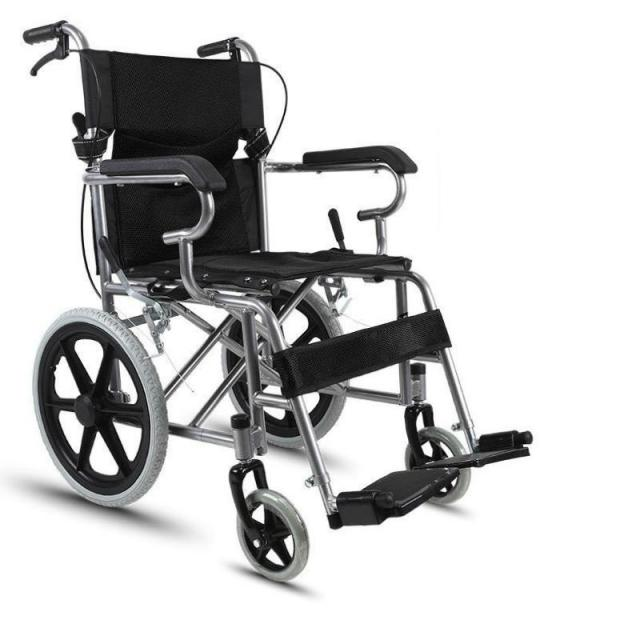wheelchair: (13, 16, 545, 588)
